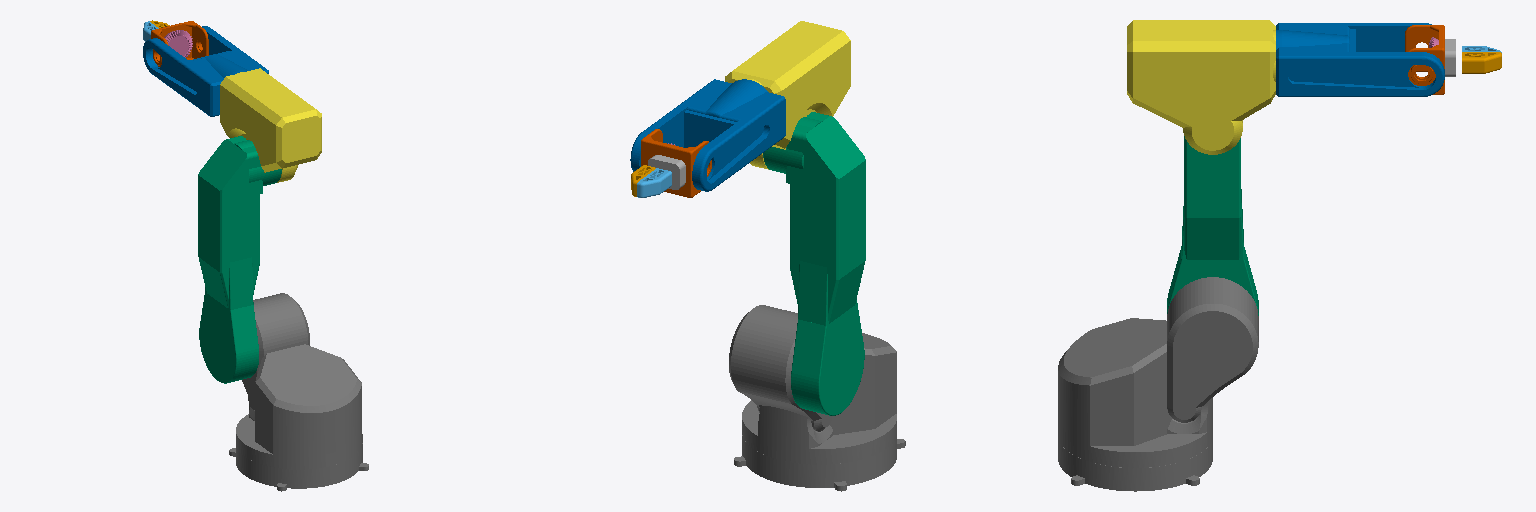
URDF robot description (robotic_arm):
<?xml version="1.0" ?>
<!-- =================================================================================== -->
<!-- |    This document was autogenerated by xacro from [local-path]/dev_ws/src/robotic_arm/urdf/robot_core.xacro | -->
<!-- |    EDITING THIS FILE BY HAND IS NOT RECOMMENDED                                 | -->
<!-- =================================================================================== -->
<robot name="robotic_arm" xmlns:xacro="http://www.ros.org/wiki/xacro">
  <!-- ****************************************************************************************** -->
  <!-- ***************************************** Base ******************************************* -->
  <!-- ****************************************************************************************** -->
  <material name="grey">
    <color rgba="0.5 0.5 0.5 1"/>
  </material>
  <link name="bottom_base">
    <visual>
      <origin xyz="0 0 0"/>
      <geometry>
        <mesh filename="package://robotic_arm/meshes/bottom_base.stl" scale="0.001 0.001 0.001"/>
      </geometry>
      <material name="grey"/>
    </visual>
    <collision>
      <origin xyz="0 0 0"/>
      <geometry>
        <mesh filename="package://robotic_arm/meshes/bottom_base.stl" scale="0.001 0.001 0.001"/>
      </geometry>
    </collision>
  </link>
  <link name="top_base">
    <visual>
      <origin xyz="0 0 0"/>
      <geometry>
        <mesh filename="package://robotic_arm/meshes/top_base.stl" scale="0.001 0.001 0.001"/>
      </geometry>
      <material name="grey"/>
    </visual>
    <collision>
      <origin xyz="0 0 0"/>
      <geometry>
        <mesh filename="package://robotic_arm/meshes/top_base.stl" scale="0.001 0.001 0.001"/>
      </geometry>
    </collision>
  </link>
  <joint name="base_joint" type="revolute">
    <parent link="bottom_base"/>
    <child link="top_base"/>
    <origin rpy="0 0 0" xyz="0 0 0.04505"/>
    <axis xyz="0 0 1"/>
    <limit effort="100" lower="-3.141592653589793" upper="3.141592653589793" velocity="1"/>
  </joint>
  <!-- ****************************************************************************************** -->
  <!-- *************************************** Shoulder ***************************************** -->
  <!-- ****************************************************************************************** -->
  <link name="shoulder">
    <visual>
      <origin xyz="0 0 0"/>
      <geometry>
        <mesh filename="package://robotic_arm/meshes/shoulder.stl" scale="0.001 0.001 0.001"/>
      </geometry>
    </visual>
    <collision>
      <origin xyz="0 0 0"/>
      <geometry>
        <mesh filename="package://robotic_arm/meshes/shoulder.stl" scale="0.001 0.001 0.001"/>
      </geometry>
    </collision>
  </link>
  <joint name="shoulder_joint" type="revolute">
    <parent link="top_base"/>
    <child link="shoulder"/>
    <origin rpy="0 0 0" xyz="-0.0655 0.13558 0.1998"/>
    <axis xyz="-1 0 0"/>
    <limit effort="100" lower="-2.356194490192345" upper="2.356194490192345" velocity="1"/>
  </joint>
  <!-- ****************************************************************************************** -->
  <!-- *************************************** Elbow ******************************************** -->
  <!-- ****************************************************************************************** -->
  <link name="elbow">
    <visual>
      <origin xyz="0 0 0"/>
      <geometry>
        <mesh filename="package://robotic_arm/meshes/elbow.stl" scale="0.001 0.001 0.001"/>
      </geometry>
    </visual>
    <collision>
      <origin xyz="0 0 0"/>
      <geometry>
        <mesh filename="package://robotic_arm/meshes/elbow.stl" scale="0.001 0.001 0.001"/>
      </geometry>
    </collision>
  </link>
  <joint name="elbow_joint" type="revolute">
    <parent link="shoulder"/>
    <child link="elbow"/>
    <origin rpy="0 0 0" xyz="0.0723 0 0.4131"/>
    <axis xyz="-1 0 0"/>
    <limit effort="100" lower="-3.141592653589793" upper="3.141592653589793" velocity="1"/>
  </joint>
  <!-- ****************************************************************************************** -->
  <!-- *************************************** Wrist ******************************************** -->
  <!-- ****************************************************************************************** -->
  <link name="forearm">
    <visual>
      <origin rpy="-1.5707963267948966 0 0" xyz="0 0 0"/>
      <geometry>
        <mesh filename="package://robotic_arm/meshes/forearm.stl" scale="0.001 0.001 0.001"/>
      </geometry>
    </visual>
    <collision>
      <origin xyz="0 0 0"/>
      <geometry>
        <mesh filename="package://robotic_arm/meshes/forearm.stl" scale="0.001 0.001 0.001"/>
      </geometry>
    </collision>
  </link>
  <joint name="forearm_joint" type="revolute">
    <parent link="elbow"/>
    <child link="forearm"/>
    <origin rpy="0 0 0" xyz="-0.0095 0.110 0.1112"/>
    <axis xyz="0 1 0"/>
    <limit effort="100" lower="-3.141592653589793" upper="3.141592653589793" velocity="1"/>
  </joint>
  <link name="wrist_carrier">
    <visual>
      <origin xyz="0 0 0"/>
      <geometry>
        <mesh filename="package://robotic_arm/meshes/wrist_carrier.stl" scale="0.001 0.001 0.001"/>
      </geometry>
    </visual>
    <collision>
      <origin xyz="0 0 0"/>
      <geometry>
        <mesh filename="package://robotic_arm/meshes/wrist_carrier.stl" scale="0.001 0.001 0.001"/>
      </geometry>
    </collision>
  </link>
  <joint name="wrist_carrier_joint" type="revolute">
    <parent link="forearm"/>
    <child link="wrist_carrier"/>
    <origin rpy="-1.5707963267948966 0 0" xyz="0 0.256 0"/>
    <axis xyz="1 0 0"/>
    <limit effort="100" lower="-2.356194490192345" upper="2.356194490192345" velocity="1"/>
  </joint>
  <link name="wrist_bevel">
    <visual>
      <origin xyz="0 0 0"/>
      <geometry>
        <mesh filename="package://robotic_arm/meshes/wrist_bevel.stl" scale="0.001 0.001 0.001"/>
      </geometry>
    </visual>
    <collision>
      <origin xyz="0 0 0"/>
      <geometry>
        <mesh filename="package://robotic_arm/meshes/wrist_bevel.stl" scale="0.001 0.001 0.001"/>
      </geometry>
    </collision>
  </link>
  <joint name="wrist_bevel_joint" type="revolute">
    <parent link="wrist_carrier"/>
    <child link="wrist_bevel"/>
    <origin rpy="0 0 0" xyz="0 0 0.0399"/>
    <axis xyz="0 0 1"/>
    <limit effort="100" lower="-3.141592653589793" upper="3.141592653589793" velocity="1"/>
  </joint>
  <!-- ****************************************************************************************** -->
  <!-- **************************************** Claw ******************************************** -->
  <!-- ****************************************************************************************** -->
  <link name="claw_base">
    <visual>
      <origin xyz="-0.04 -0.025 0"/>
      <geometry>
        <mesh filename="package://robotic_arm/meshes/claw_base.stl" scale="0.001 0.001 0.001"/>
      </geometry>
    </visual>
    <collision>
      <origin xyz="0 0 0"/>
      <geometry>
        <mesh filename="package://robotic_arm/meshes/claw_base.stl" scale="0.001 0.001 0.001"/>
      </geometry>
    </collision>
  </link>
  <joint name="claw_base_joint" type="fixed">
    <parent link="wrist_bevel"/>
    <child link="claw_base"/>
    <origin rpy="0 0 0" xyz="0 0 0"/>
  </joint>
  <link name="right_claw">
    <visual>
      <origin xyz="0 0 -0.015"/>
      <geometry>
        <mesh filename="package://robotic_arm/meshes/claw_right.stl" scale="0.001 0.001 0.001"/>
      </geometry>
    </visual>
    <collision>
      <origin xyz="0 0 0"/>
      <geometry>
        <mesh filename="package://robotic_arm/meshes/claw_right.stl" scale="0.001 0.001 0.001"/>
      </geometry>
    </collision>
  </link>
  <joint name="right_claw_joint" type="prismatic">
    <parent link="claw_base"/>
    <child link="right_claw"/>
    <origin rpy="1.5707963267948966 0 0" xyz="0 0 0.03"/>
    <axis xyz="1 0 0"/>
    <limit effort="100" lower="0" upper="0.03" velocity="1"/>
  </joint>
  <link name="left_claw">
    <visual>
      <origin xyz="0 0 -0.015"/>
      <geometry>
        <mesh filename="package://robotic_arm/meshes/claw_left.stl" scale="0.001 0.001 0.001"/>
      </geometry>
    </visual>
    <collision>
      <origin xyz="0 0 0"/>
      <geometry>
        <mesh filename="package://robotic_arm/meshes/claw_left.stl" scale="0.001 0.001 0.001"/>
      </geometry>
    </collision>
  </link>
  <joint name="left_claw_joint" type="prismatic">
    <parent link="claw_base"/>
    <child link="left_claw"/>
    <origin rpy="1.5707963267948966 0 0" xyz="0 0 0.03"/>
    <axis xyz="1 0 0"/>
    <limit effort="100" lower="-0.03" upper="0" velocity="1"/>
    <mimic joint="right_claw_joint" multiplier="-1"/>
  </joint>
</robot>

--- Facts derived from the render (not from the file) ---
The picture shows the robot from 3 angles, left to right: view 1: azimuth 30°, elevation 25°; view 2: azimuth 150°, elevation 25°; view 3: azimuth 270°, elevation 25°; orthographic projection.
Model robotic_arm with 10 links and 9 joints (6 revolute, 2 prismatic, 1 fixed), rooted at bottom_base, posed all joints at 0.
Visible links, largest first — view 1: top_base, shoulder, elbow, forearm, bottom_base, wrist_carrier; view 2: shoulder, top_base, forearm, elbow, bottom_base, wrist_carrier, left_claw, claw_base; view 3: top_base, elbow, forearm, shoulder, bottom_base, wrist_carrier, right_claw.
Boxes of the visible links, x1=… form: top_base: x1=236, y1=293, x2=362, y2=469; shoulder: x1=198, y1=136, x2=281, y2=383; elbow: x1=220, y1=68, x2=321, y2=182; forearm: x1=143, y1=26, x2=268, y2=116; bottom_base: x1=229, y1=443, x2=368, y2=491; wrist_carrier: x1=151, y1=21, x2=208, y2=66; shoulder: x1=763, y1=112, x2=865, y2=415; top_base: x1=729, y1=305, x2=896, y2=464; forearm: x1=630, y1=79, x2=785, y2=191; elbow: x1=725, y1=21, x2=850, y2=169; bottom_base: x1=734, y1=435, x2=905, y2=491; wrist_carrier: x1=641, y1=129, x2=711, y2=197; left_claw: x1=637, y1=168, x2=671, y2=197; claw_base: x1=648, y1=155, x2=685, y2=189; top_base: x1=1058, y1=277, x2=1258, y2=467; elbow: x1=1127, y1=20, x2=1275, y2=154; forearm: x1=1276, y1=23, x2=1444, y2=96; shoulder: x1=1167, y1=136, x2=1258, y2=315; bottom_base: x1=1058, y1=439, x2=1212, y2=491; wrist_carrier: x1=1405, y1=25, x2=1444, y2=94; right_claw: x1=1462, y1=52, x2=1501, y2=73.
Bounding box of the posed robot: 0.2801 × 0.7771 × 0.8255 m (x, y, z).
Meshes: 10 distinct files referenced, 10 mesh visuals loaded (10 binary STL).